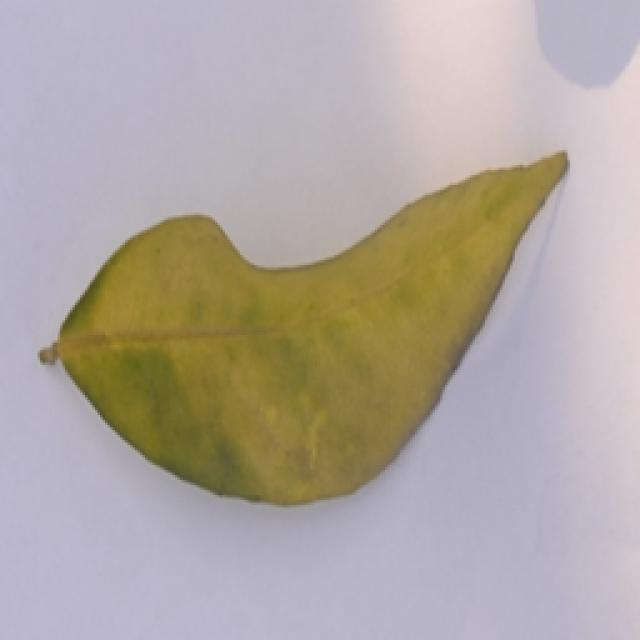greening: (25, 116, 577, 533)
